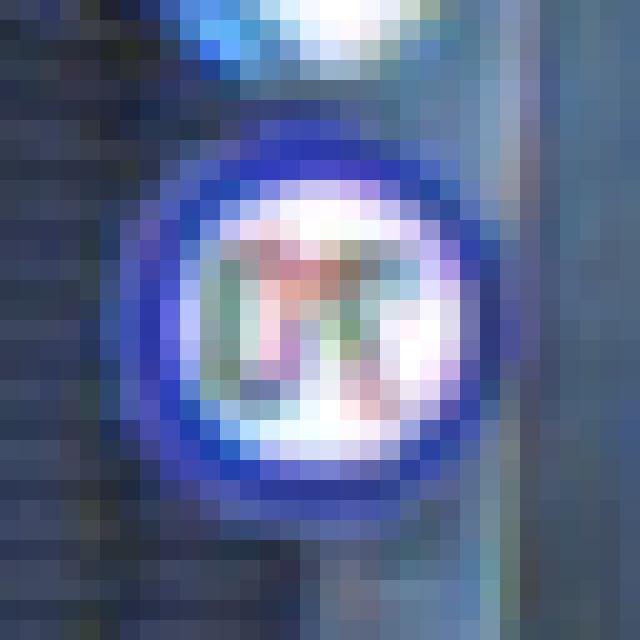SPEED LIMIT 70: (102, 143, 536, 523)
